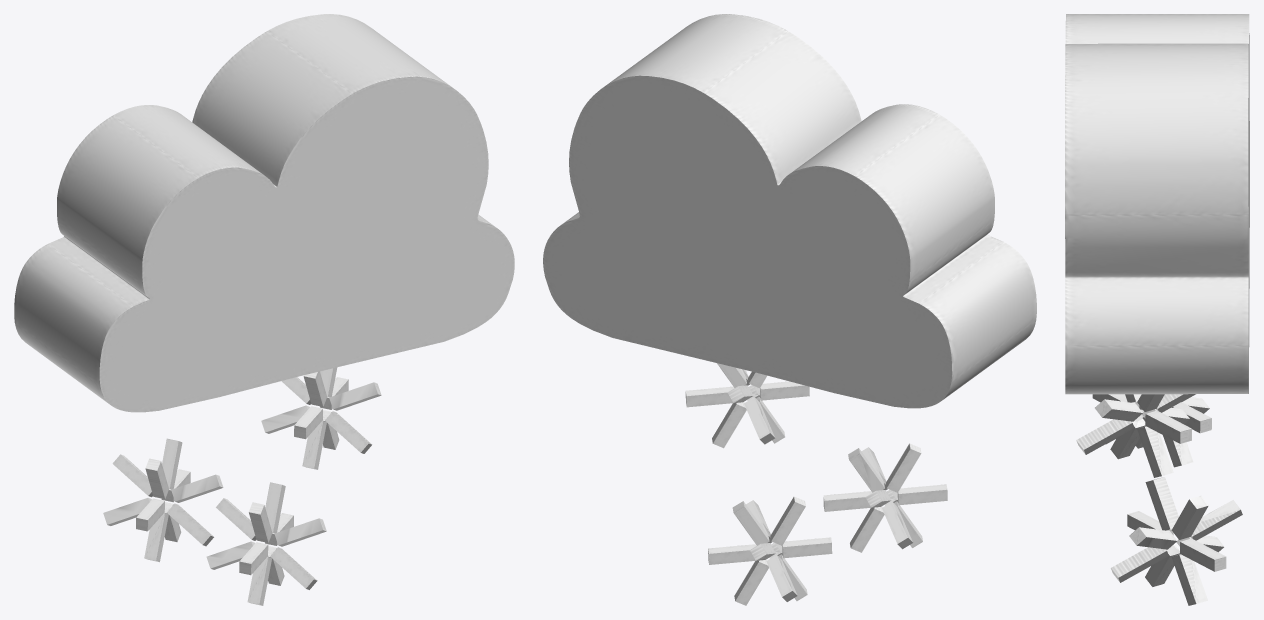
Rendered from snow_icon.glb.
3 views of the same model, side by side, from view 1: azimuth 30°, elevation 25°; view 2: azimuth 150°, elevation 25°; view 3: azimuth 270°, elevation 25° (orthographic). The views are drawn at different scales.
Visible parts, largest first — view 1: snow_snow_0; view 2: snow_snow_0; view 3: snow_snow_0.
Part boxes in pixels (x1=…): snow_snow_0: x1=14, y1=14, x2=514, y2=605; snow_snow_0: x1=543, y1=14, x2=1036, y2=605; snow_snow_0: x1=1065, y1=14, x2=1249, y2=605.
Bounding box in the file's own units: 22.87 × 28.25 × 8.24.
1 material, 1 textured.
